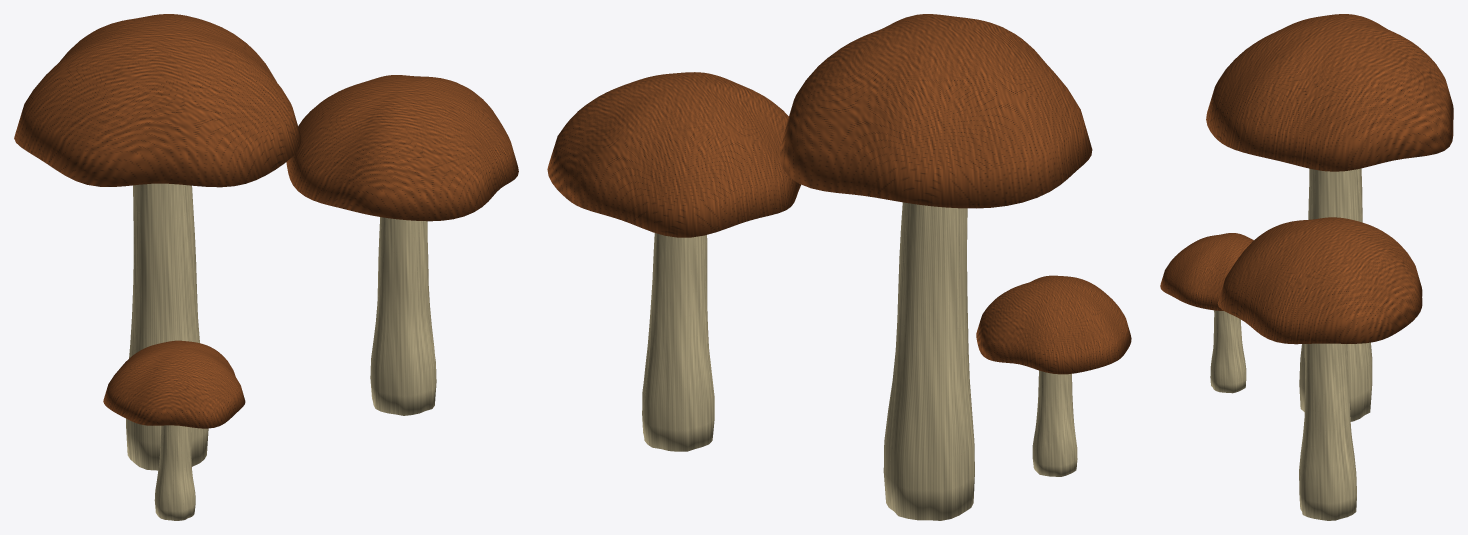
The model's file is chestnut.glb.
3 views of the same model, side by side, from view 1: azimuth 30°, elevation 25°; view 2: azimuth 150°, elevation 25°; view 3: azimuth 270°, elevation 25° (orthographic). The views are drawn at different scales.
Visible parts, largest first — view 1: Chestnut_01, Chestnut_02, Chestnut_03; view 2: Chestnut_01, Chestnut_02, Chestnut_03; view 3: Chestnut_01, Chestnut_02, Chestnut_03.
Part boxes in pixels (<box>): Chestnut_01: <box>14,14,301,470</box>; Chestnut_02: <box>286,75,518,415</box>; Chestnut_03: <box>103,340,245,520</box>; Chestnut_01: <box>780,14,1092,520</box>; Chestnut_02: <box>547,72,800,451</box>; Chestnut_03: <box>976,275,1131,476</box>; Chestnut_01: <box>1206,14,1453,421</box>; Chestnut_02: <box>1217,217,1422,520</box>; Chestnut_03: <box>1160,233,1253,393</box>.
Size of the model in its own units: 0.1766 by 0.155 by 0.1091.
Materials: 3 (3 with a texture image).
